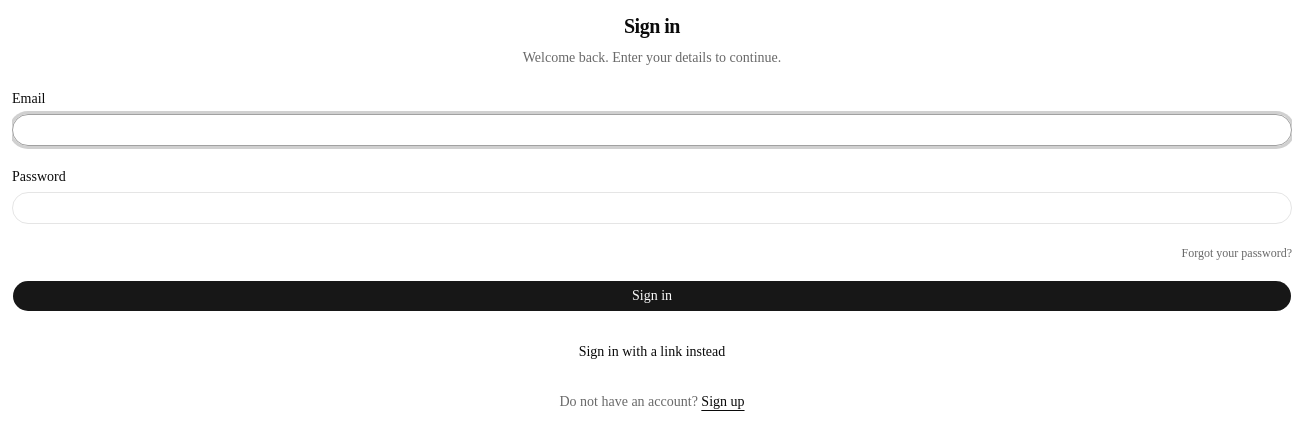
Test: LoginForm — magic link › switches to magic-link mode and hides the password field
The width and height of the screenshot is (1304, 428).
Click the button "Sign in with a link instead" at x=652, y=352, box [12, 336, 1292, 368]
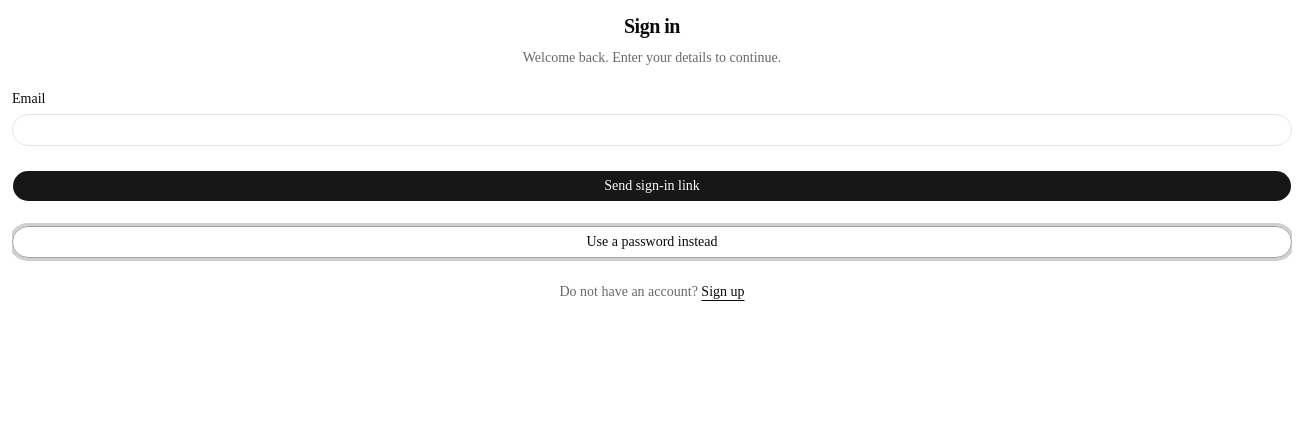
Now the button "Send sign-in link" is shown, box [12, 170, 1292, 202]
